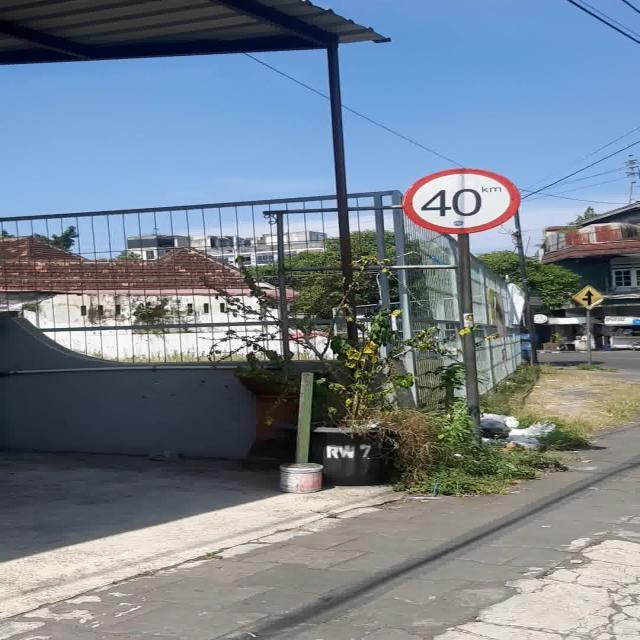Kecepatan Maks. 40 km: (402, 169, 520, 234)
